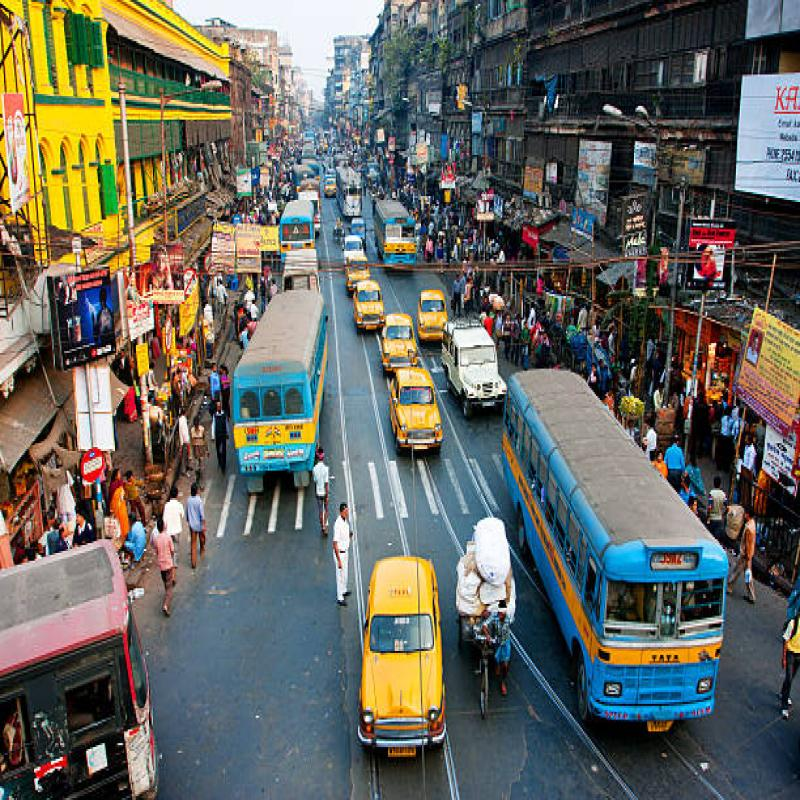bus: (497, 369, 724, 761), (238, 301, 358, 473)
car: (348, 552, 443, 766), (378, 363, 464, 456), (359, 273, 408, 353), (381, 301, 426, 373)
